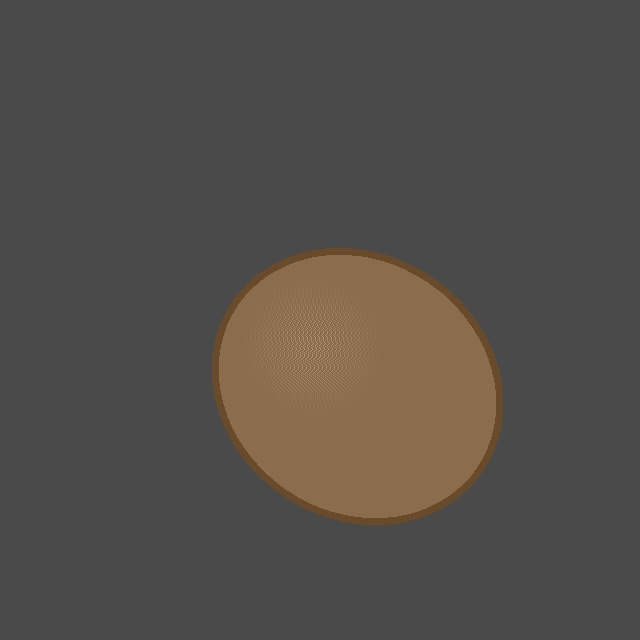lens: (215, 252, 499, 520)
